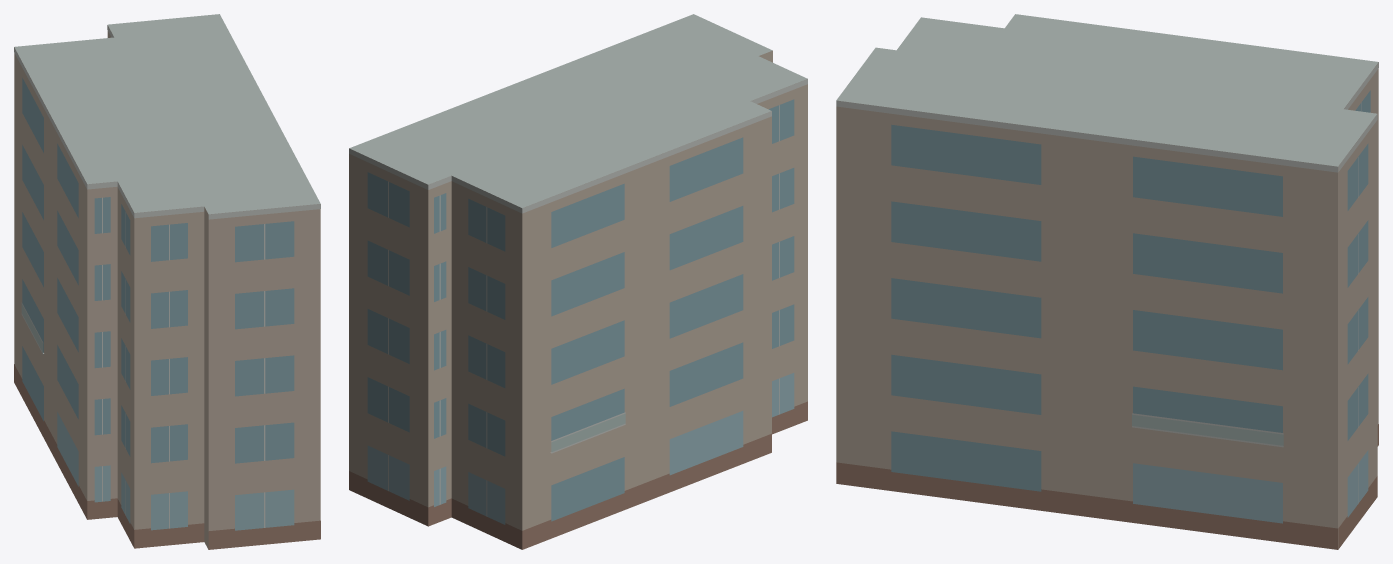
File: survey-upis-32942522.glb
3 renders of one model, left to right at view 1: azimuth 30°, elevation 25°; view 2: azimuth 150°, elevation 25°; view 3: azimuth 270°, elevation 25°, orthographic. The views are drawn at different scales.
Visible parts, largest first — view 1: survey-upis-32942522.tmp; view 2: survey-upis-32942522.tmp; view 3: survey-upis-32942522.tmp.
Boxes of the visible parts, bbox=[...] form: survey-upis-32942522.tmp: bbox=[14, 14, 320, 549]; survey-upis-32942522.tmp: bbox=[349, 14, 807, 549]; survey-upis-32942522.tmp: bbox=[836, 14, 1378, 549].
Size of the model in its own units: 13.25 by 15.5 by 19.9.
